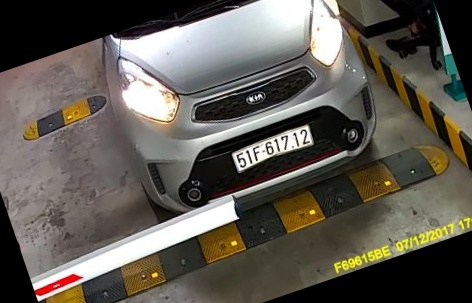plate: (229, 125, 314, 172)
